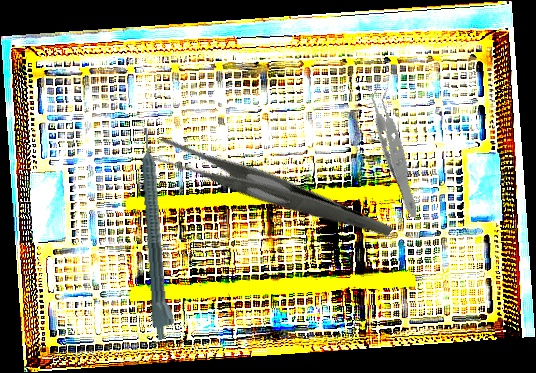Dressing Forceps: (148, 81, 394, 303)
Handpiece: (138, 126, 178, 341)
Tissue Forceps: (344, 76, 450, 219)
